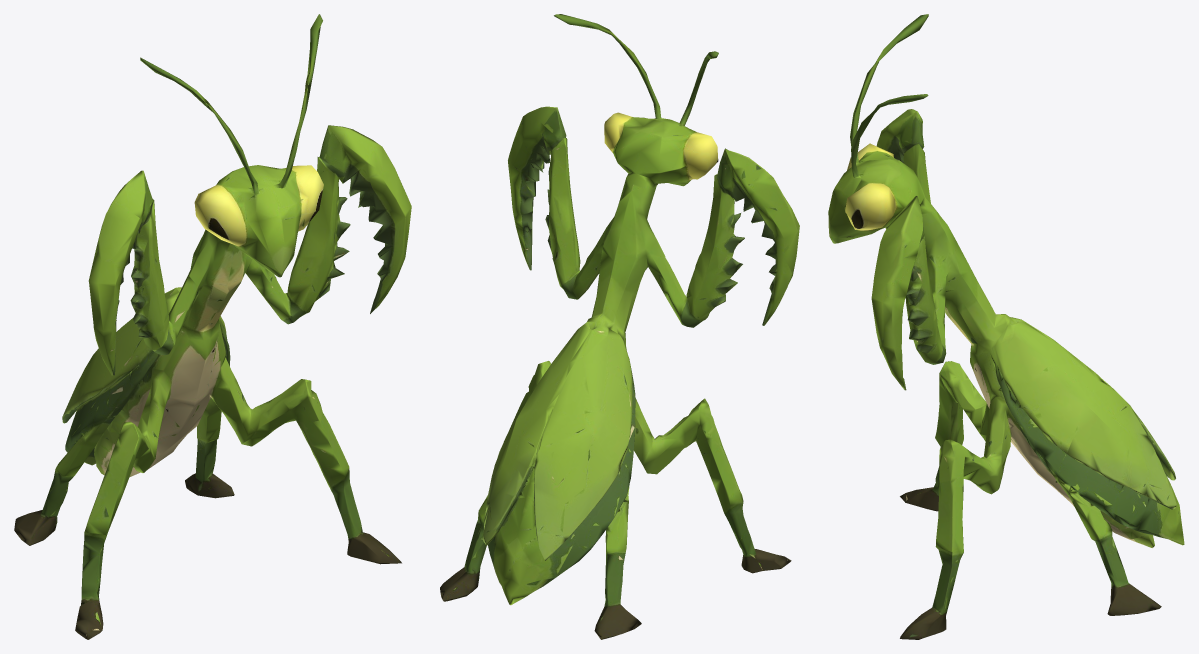
Rendered from mantis.glb.
3 views of the same model, side by side, from view 1: azimuth 30°, elevation 25°; view 2: azimuth 150°, elevation 25°; view 3: azimuth 270°, elevation 25° (orthographic). The views are drawn at different scales.
Bounding box in the file's own units: 1.15 × 1.9 × 1.19.
1 material, 1 textured.
